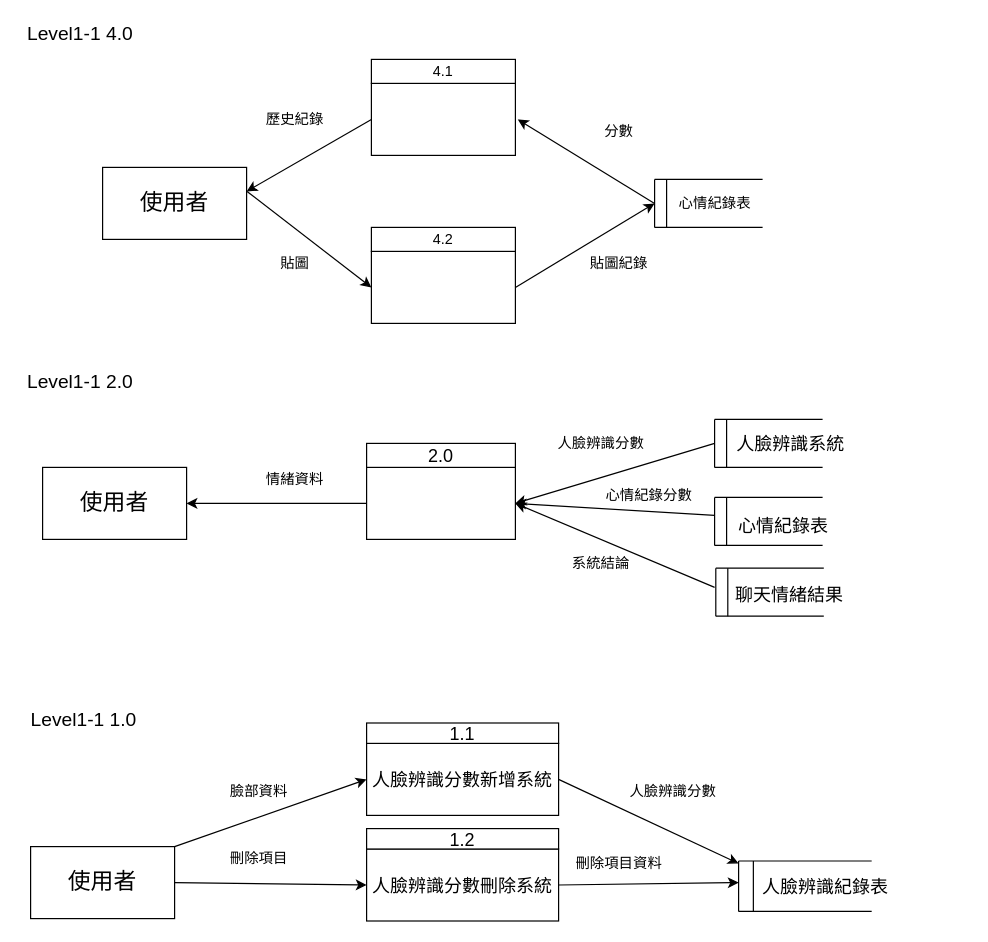
Image size: 988x942. Some labels were removed from this diagram. The shapes that lost their labels are listed below. From the top down, each one's centre as x and y in pixels, then its label:
point 442,118: 心情統計系統
point 442,286: 心情新增系統
point 440,502: 情緒評分系統
